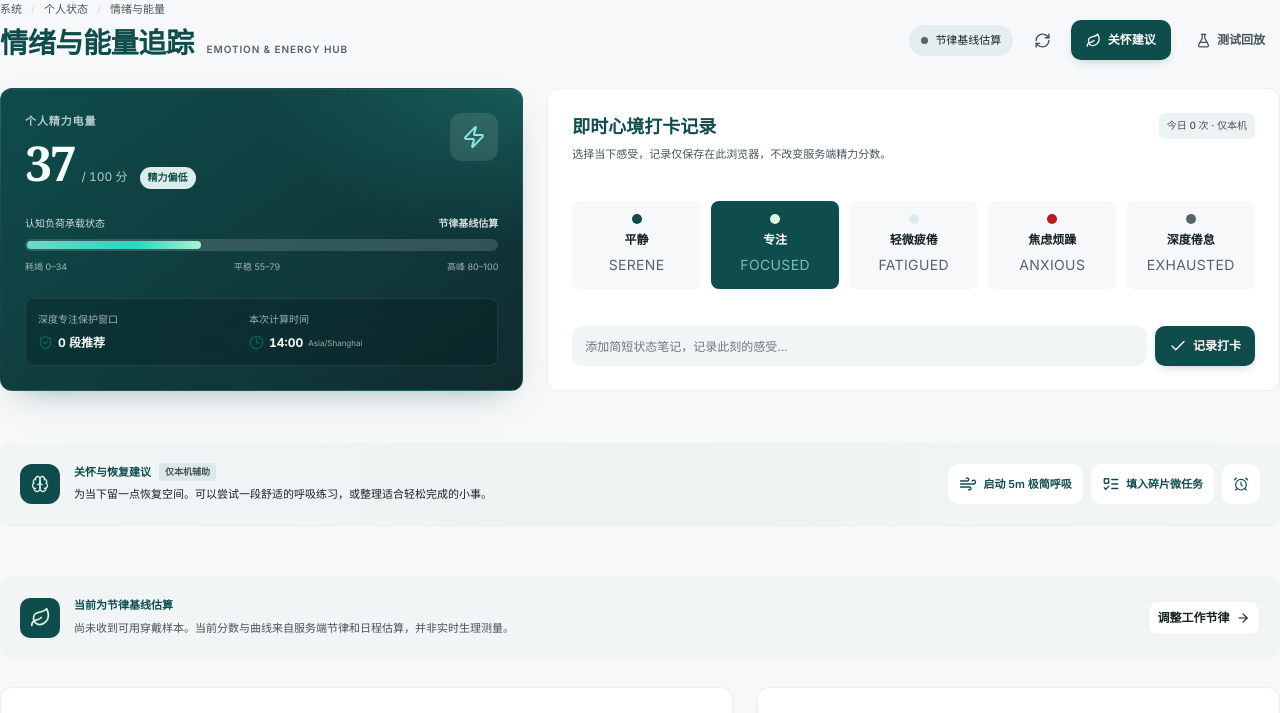
Test case: wearable energy insights › requires explicit confirmation before seeding the sleep_deprived replay
Click the button "测试回放": click(1230, 40) top-left (1181, 20), bottom-right (1279, 60)
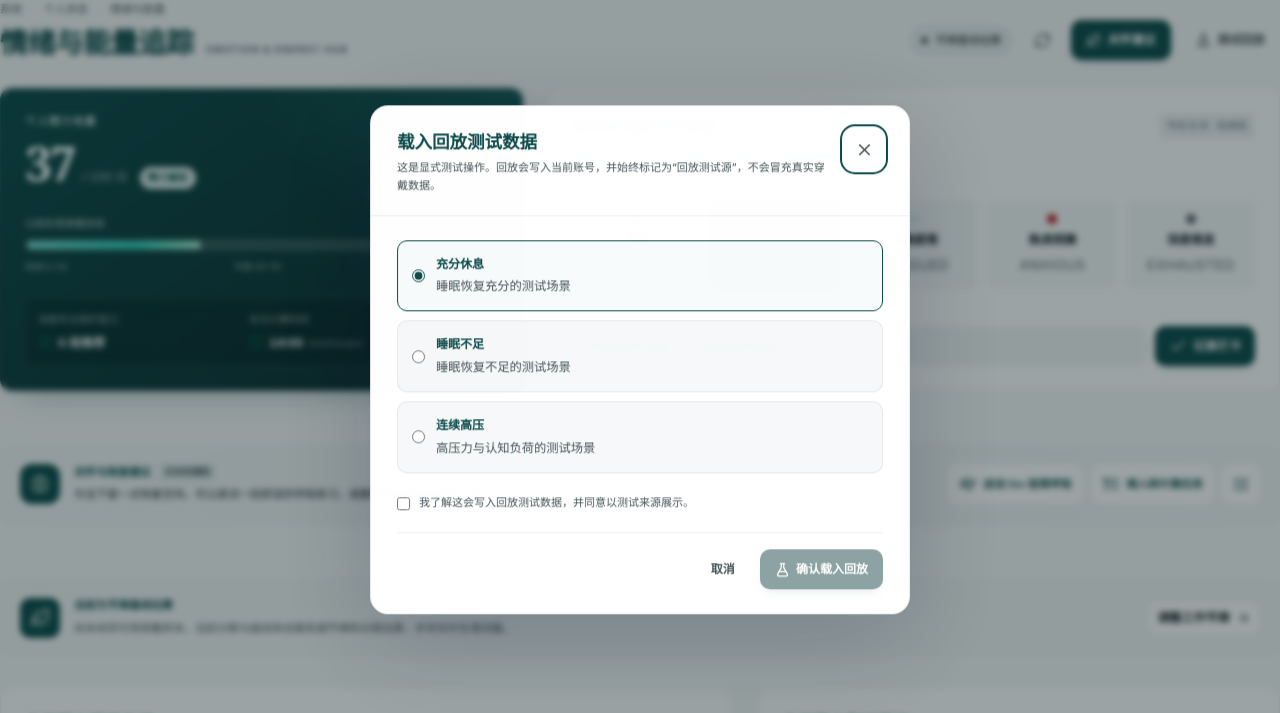
Click the radio button labelled "睡眠不足 睡眠恢复不足的测试场景": click(418, 356) top-left (412, 350), bottom-right (425, 363)
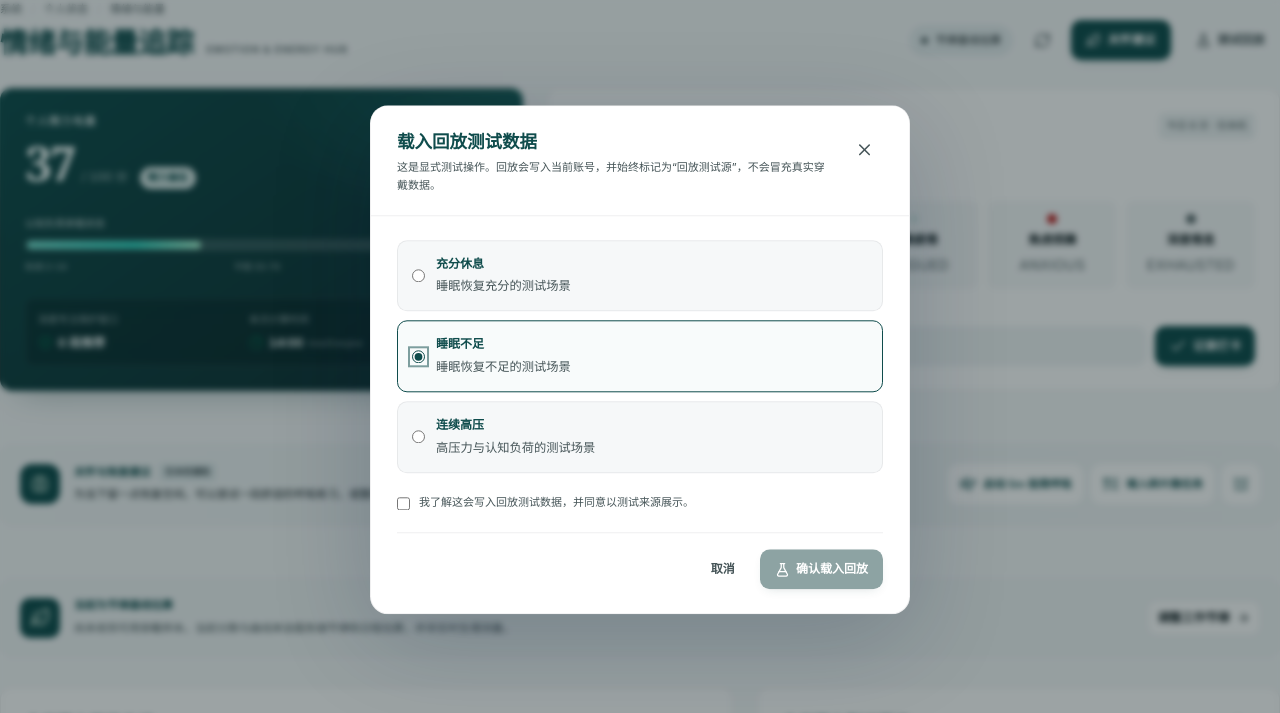
Check: the button "确认载入回放" is disabled, box top-left (760, 550), bottom-right (883, 590)
Click the checkbox labelled "我了解这会写入回放测试数据，并同意以测试来源展示。": click(404, 503) top-left (397, 497), bottom-right (410, 510)
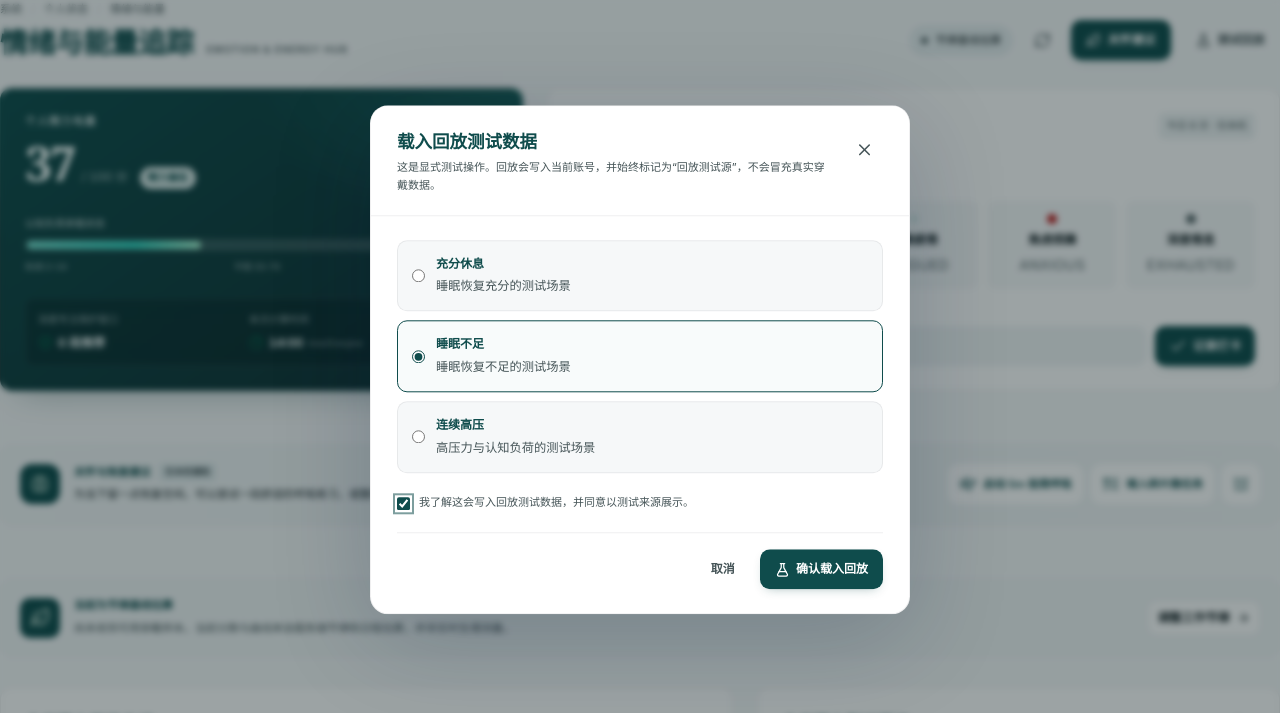
Click the button "确认载入回放": click(821, 570) top-left (760, 550), bottom-right (883, 590)
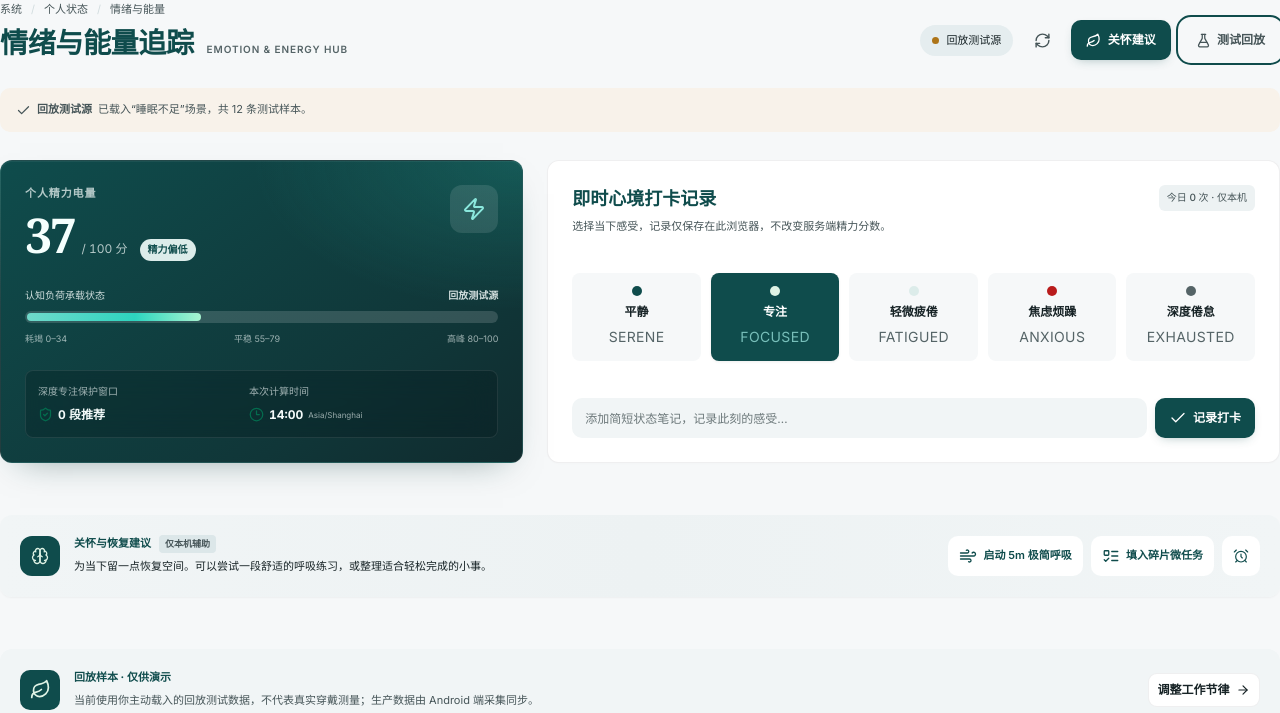
Check: the text "回放测试源" is shown, box top-left (920, 25), bottom-right (1013, 56)
